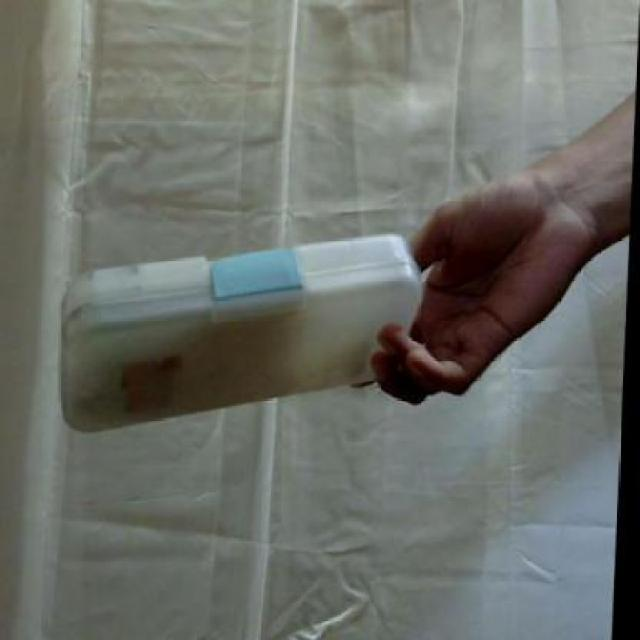Plastic: (53, 230, 421, 444)
